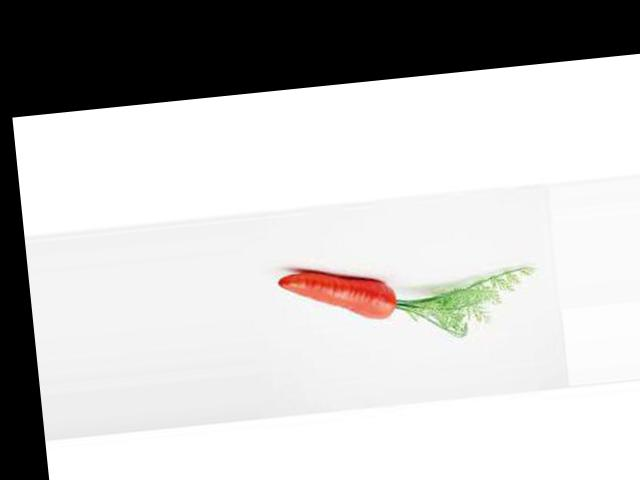carrot: (261, 248, 402, 334)
